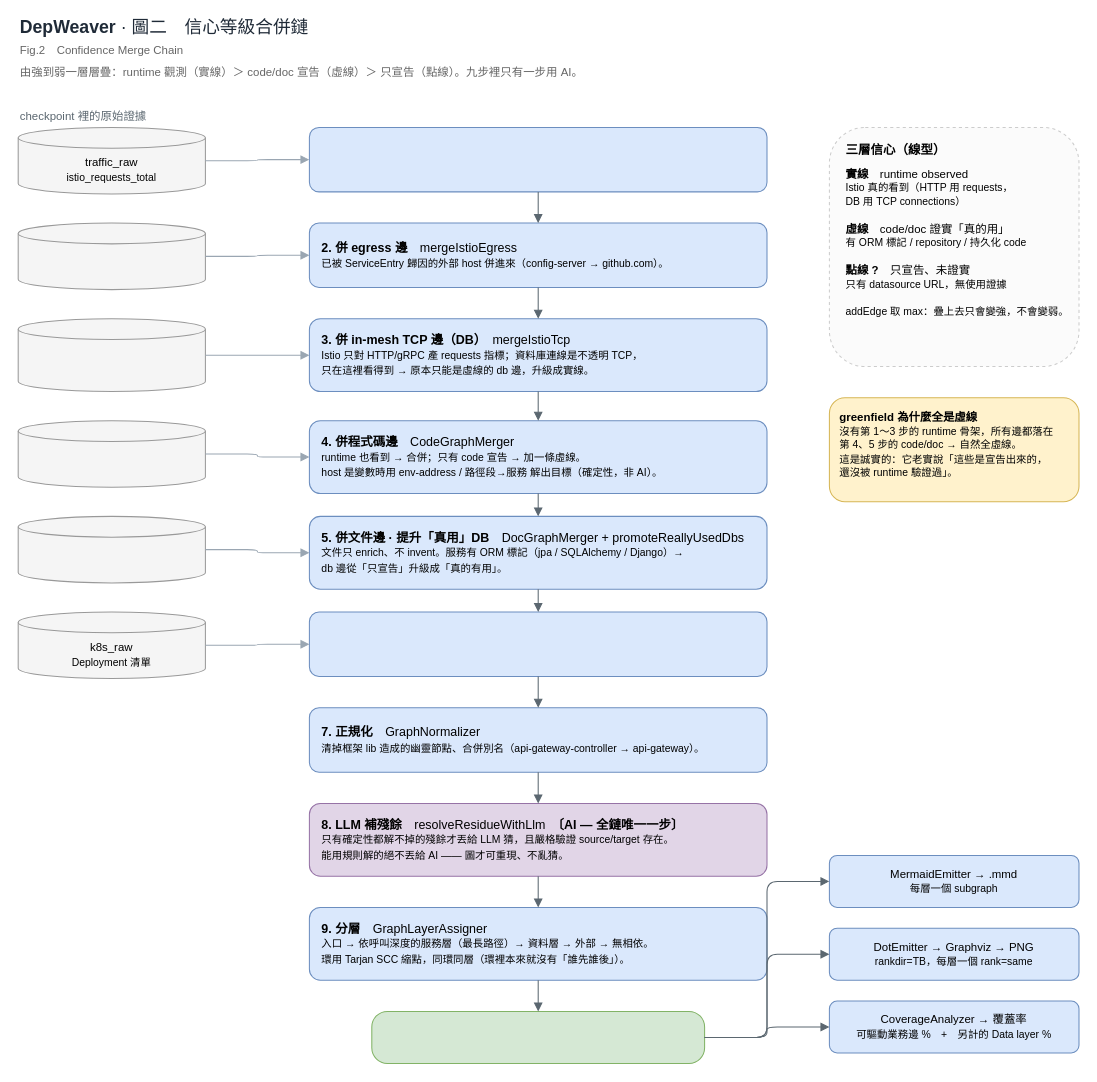
Image size: 1097x1082. Some labels were removed from this diagram. Here are the shapes that lost their labels. From the top down, the centre of each, then its label:
At (537,159): "1. runtime 骨架 fromIstioRequests 請求真的跨過去了 = 最強證據 → 實線。之後所有東西疊在這上面。".
At (111,256): "egress_raw 離開 mesh 的呼叫".
At (111,355): "tcp_raw istio_tcp_connections _opened_total".
At (111,453): "code_edges tree-sitter EdgeLedger".
At (111,549): "merged_notes DeepWiki 文件證據".
At (537,644): "6. 標部署狀態 K8sGraphBuilder.enrich 宣告了、叢集其實沒在跑 → 灰底紅框虛線 (not deployed)。".
At (538,1036): "DependencyGraph （canonical model）".
